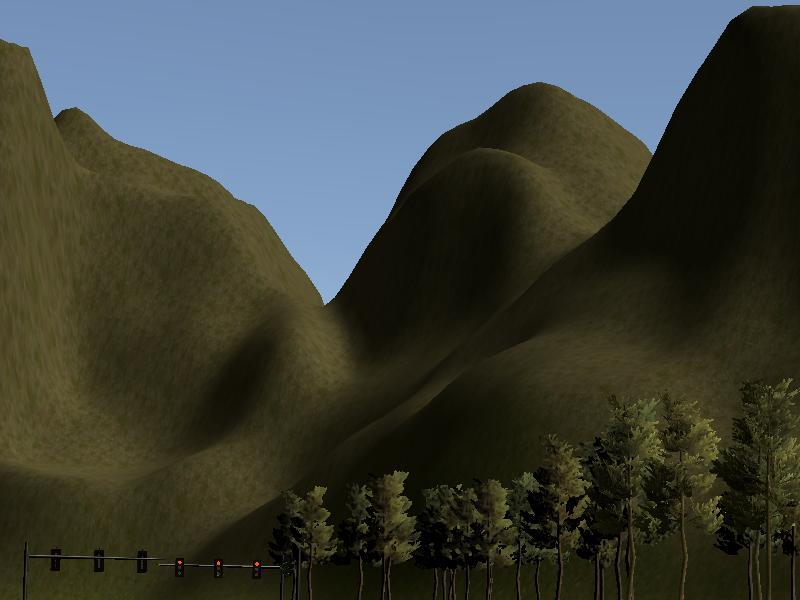Red: (173, 557, 185, 579), (252, 556, 262, 581), (213, 557, 223, 580)
